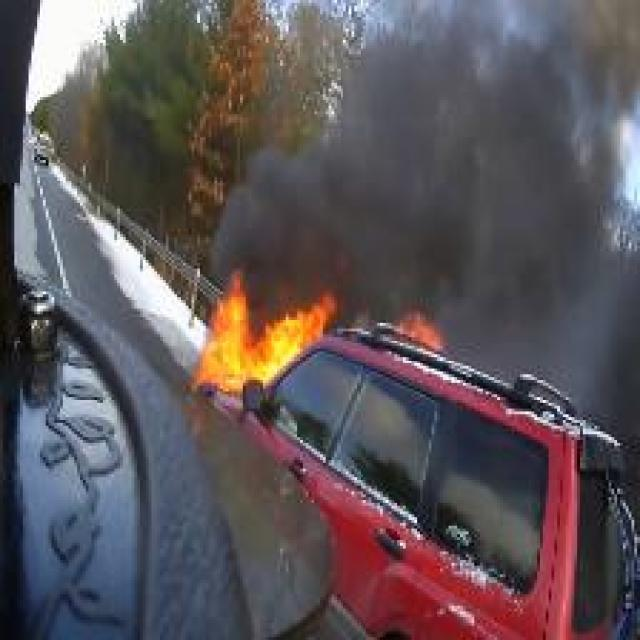Fire: (195, 268, 338, 394), (394, 308, 446, 354)
